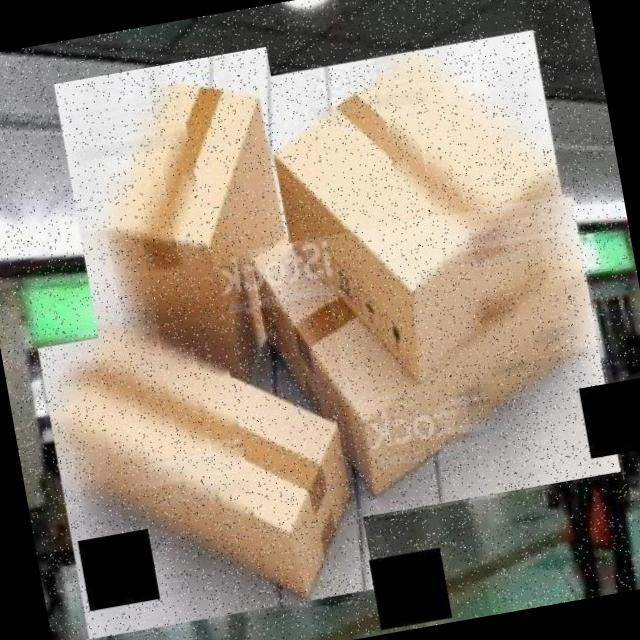box: (252, 24, 594, 406), (246, 193, 624, 532), (31, 293, 380, 640), (49, 41, 322, 392)
